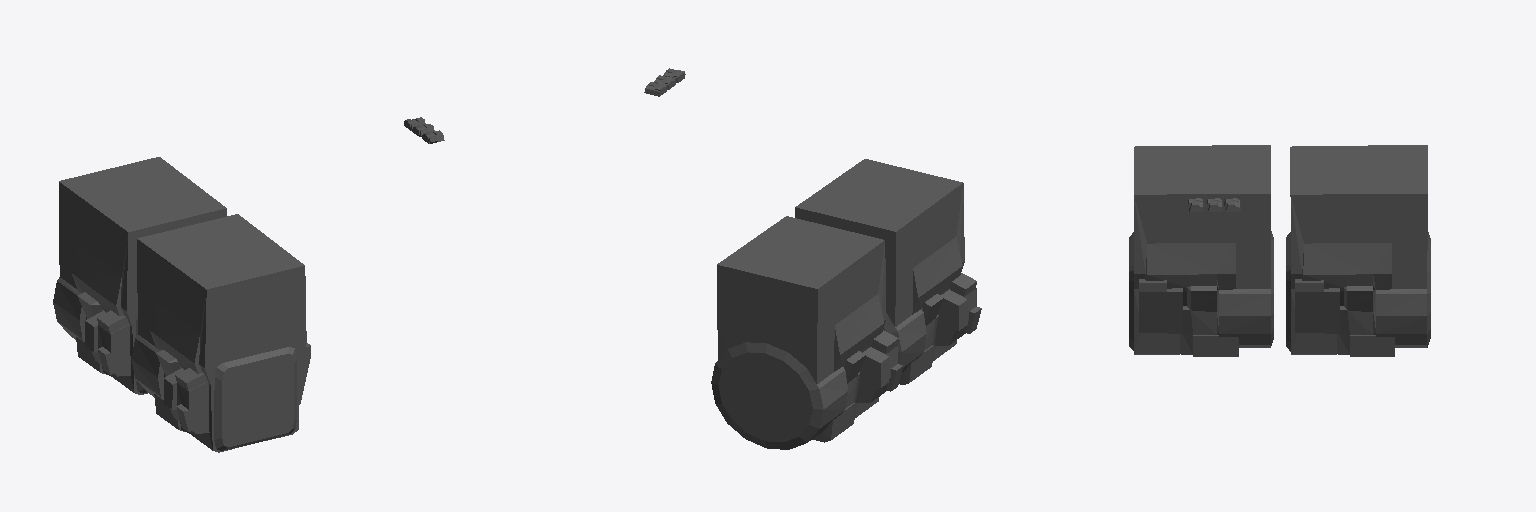
File: Ship_13.obj
3 renders of one model, left to right at view 1: azimuth 30°, elevation 25°; view 2: azimuth 150°, elevation 25°; view 3: azimuth 270°, elevation 25°, orthographic.
Size of the model in its own units: 205 by 165 by 187.